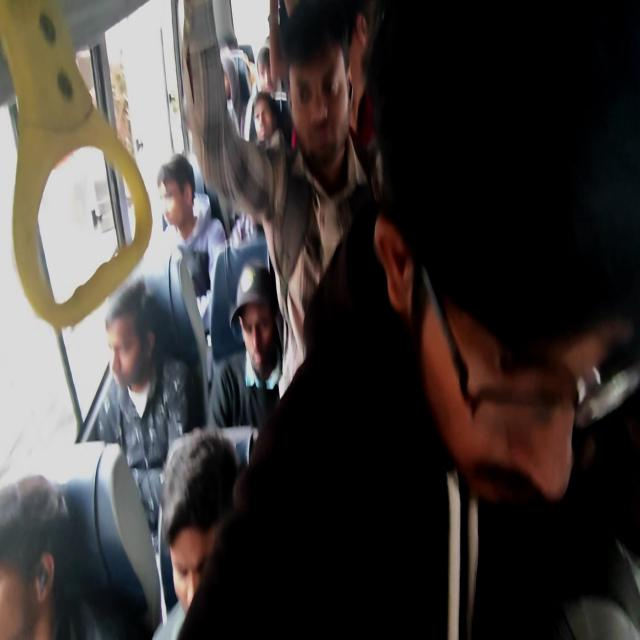person: (367, 1, 639, 636), (175, 205, 463, 638), (179, 0, 379, 402), (87, 277, 202, 621), (152, 426, 243, 638), (207, 261, 283, 432), (156, 153, 227, 334), (0, 473, 75, 639), (252, 91, 284, 148)
